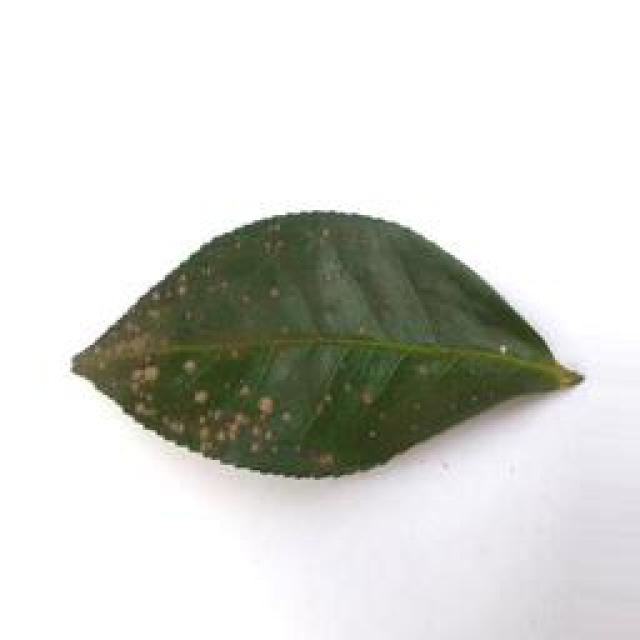Algal Leaf Spot: (64, 197, 596, 486)
